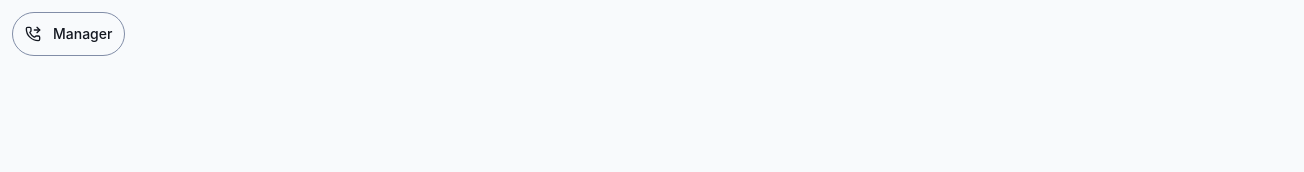
Test: BrowserVoiceHandoff pill variant › clicking the pill starts the same manager transfer (token request + onActive)
The width and height of the screenshot is (1304, 172).
Click the button with aria-label "Talk to manager" at (69, 34), box [12,12,125,56]
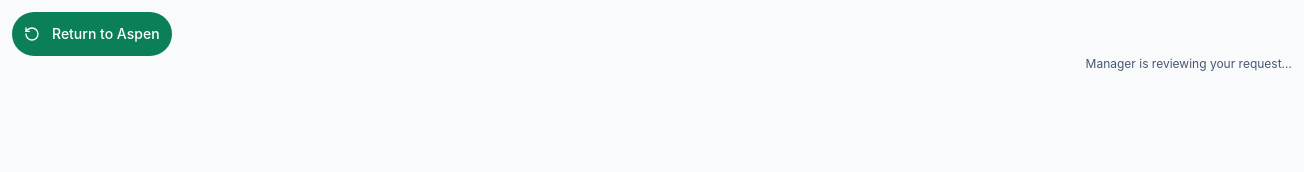
Expected: the message shows "Manager", [1086,56,1292,71]
